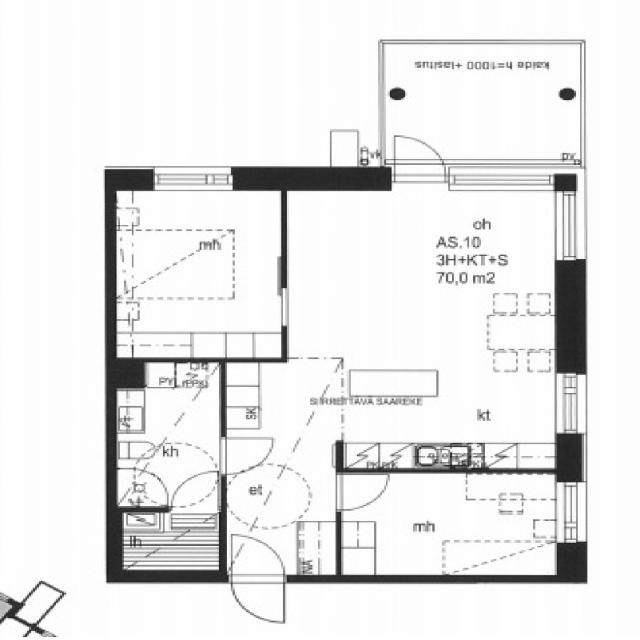door: (394, 128, 444, 190), (231, 535, 284, 582), (231, 576, 284, 622), (219, 438, 273, 474), (335, 475, 389, 510), (172, 474, 218, 514)
